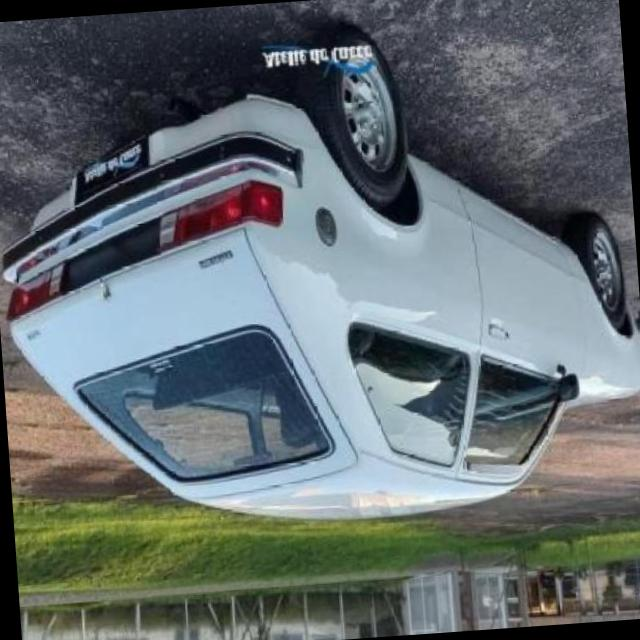car: (0, 7, 640, 549)
